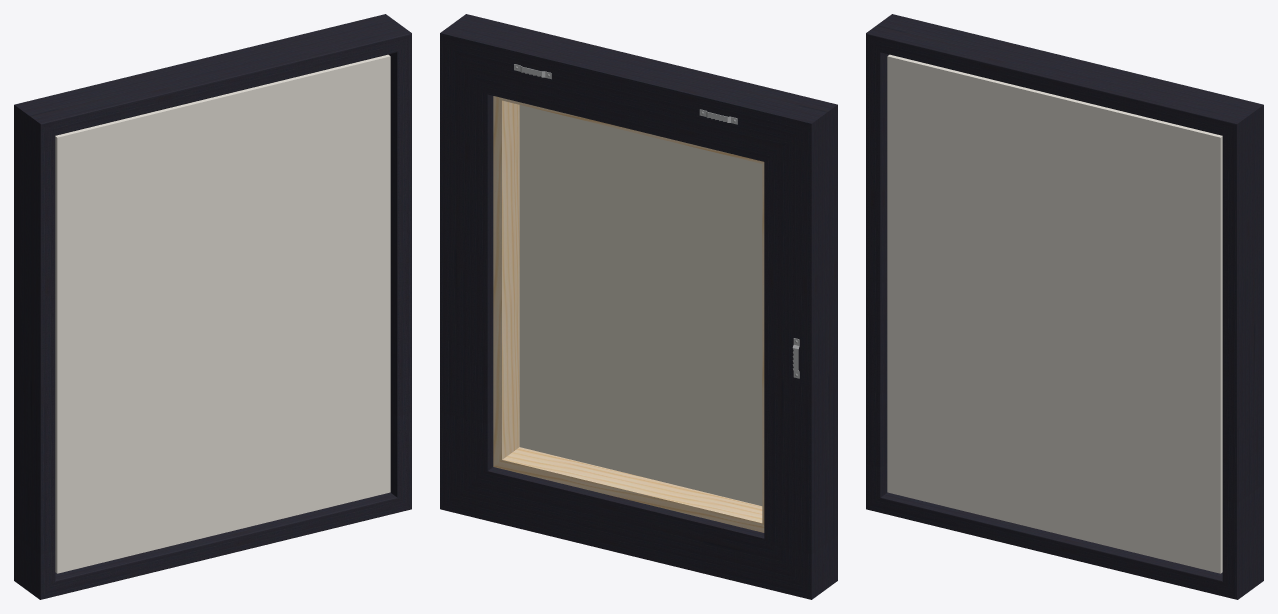
File: delivery.glb
3 renders of one model, left to right at view 1: azimuth 30°, elevation 25°; view 2: azimuth 150°, elevation 25°; view 3: azimuth 330°, elevation 25°, orthographic.
Visible parts, largest first — view 1: Canvas artwork front, Tray approved profile 0; view 2: Tray approved profile 0, Canvas linen reverse, Stretcher top, Sawtooth hanger 0; view 3: Canvas artwork front, Tray approved profile 0.
Part boxes in pixels (x1,y1,x2,y2): Canvas artwork front: [55, 54, 390, 573]; Tray approved profile 0: [14, 14, 411, 599]; Tray approved profile 0: [440, 14, 837, 599]; Canvas linen reverse: [519, 105, 762, 505]; Stretcher top: [493, 96, 764, 532]; Sawtooth hanger 0: [514, 64, 799, 378]; Canvas artwork front: [887, 54, 1222, 573]; Tray approved profile 0: [866, 14, 1263, 599].
Size of the model in its own units: 0.446 by 0.546 by 0.0574.
7 materials, 3 textured.
